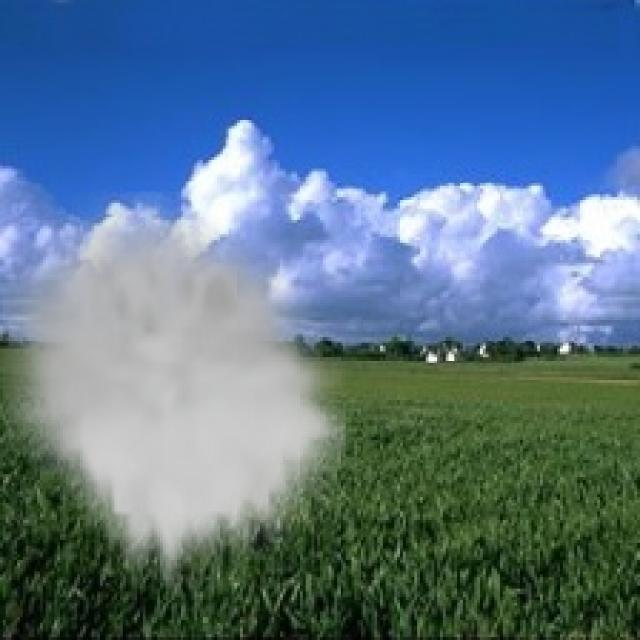Smoke: (3, 192, 346, 588)
